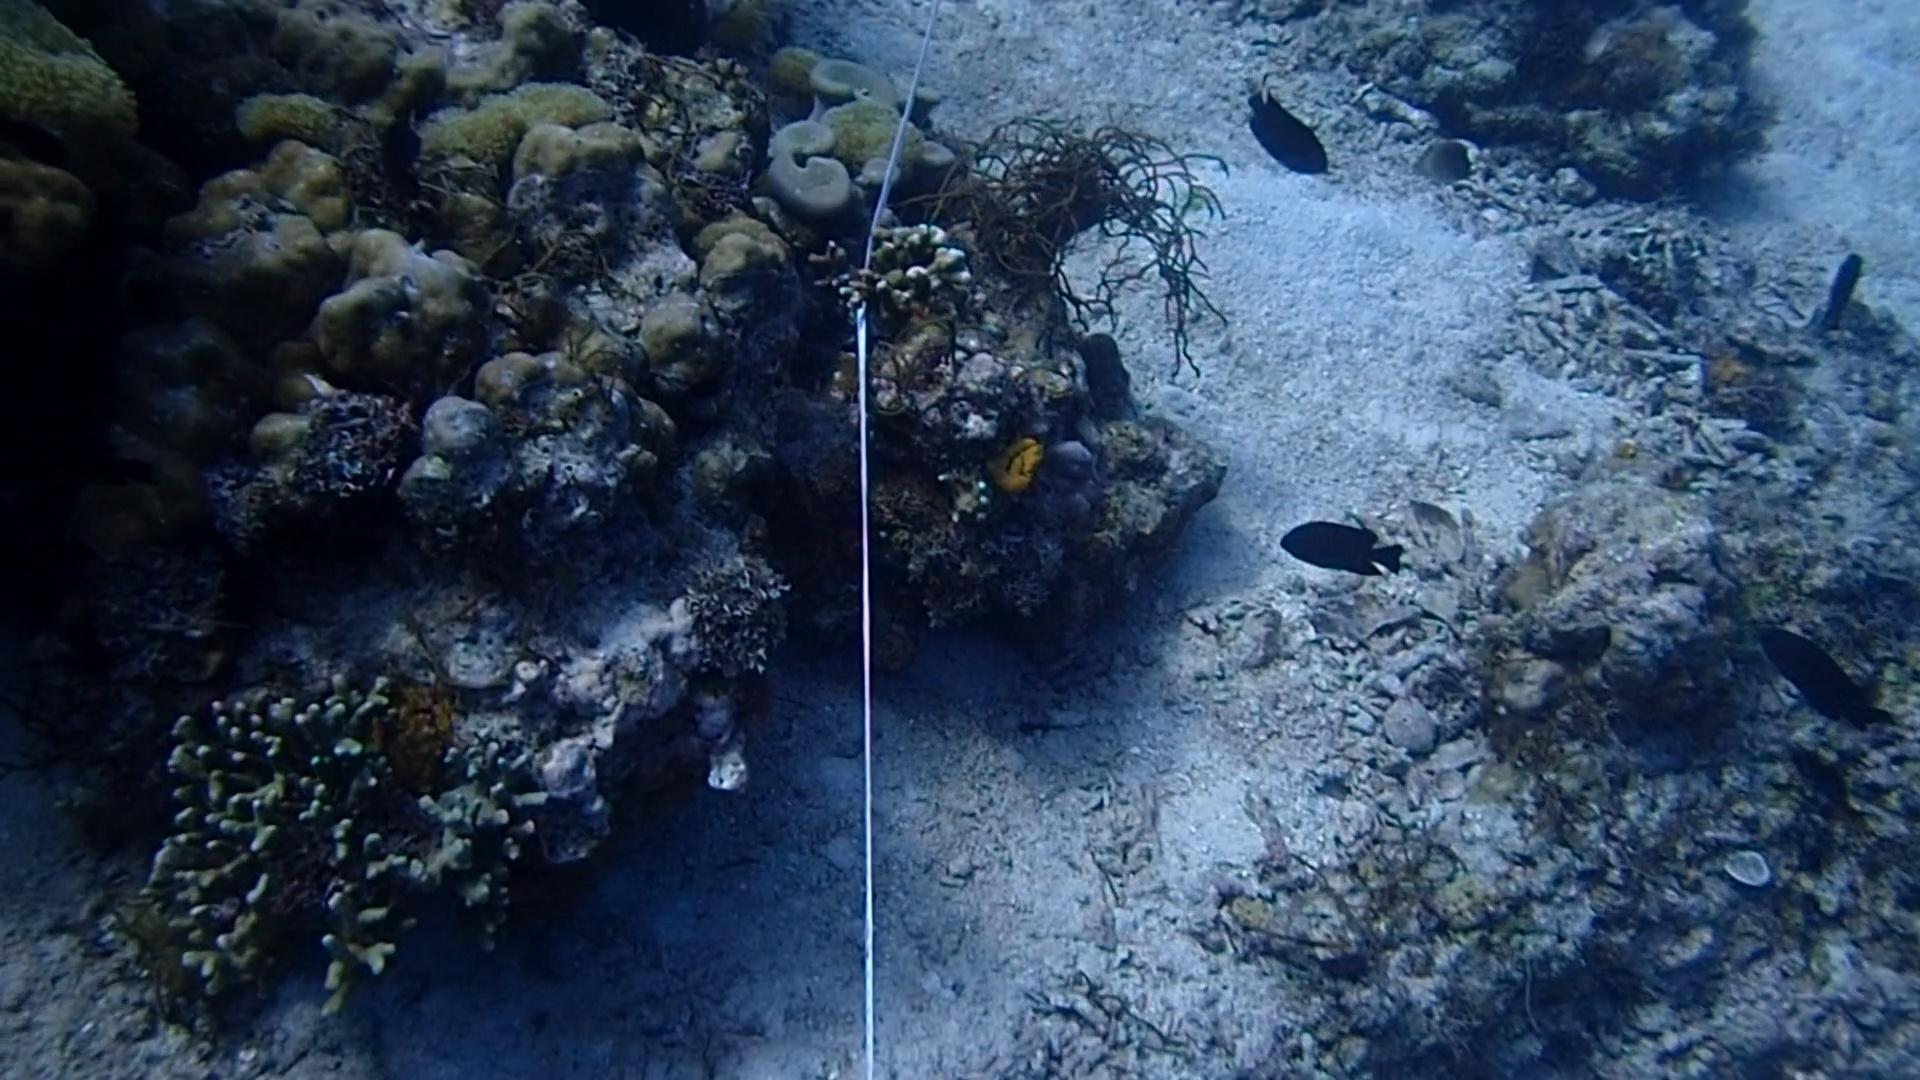Dark Fish: (1750, 612, 1896, 741), (1220, 82, 1346, 191), (1273, 502, 1402, 588), (1780, 731, 1875, 841), (1799, 232, 1882, 339)
Light Fish: (1398, 131, 1489, 195)
